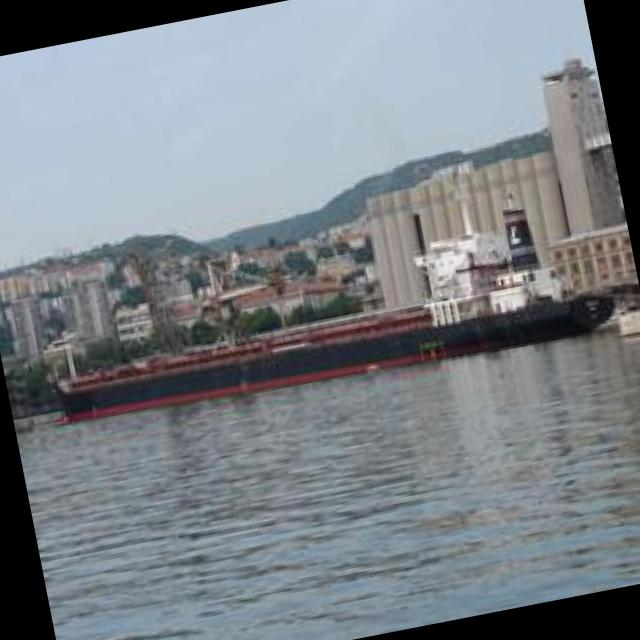boat: (42, 230, 614, 444)
